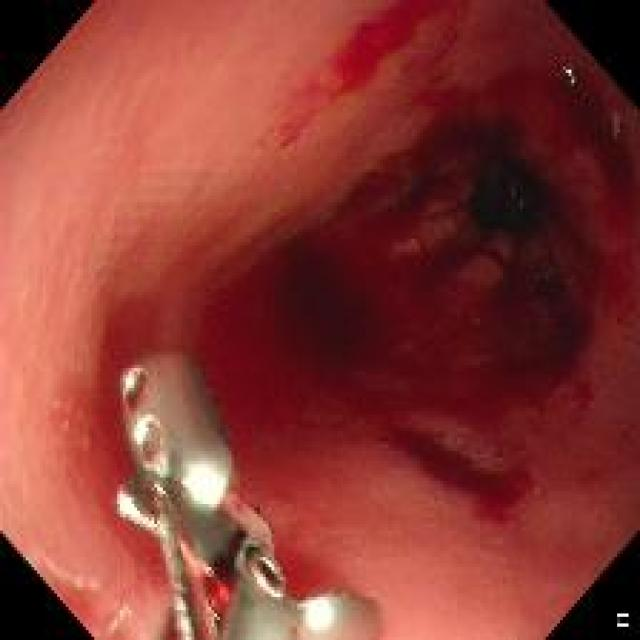blood: (491, 264, 591, 416), (276, 245, 372, 395), (395, 430, 523, 506)
color misalignment: (122, 368, 151, 414), (107, 607, 133, 637), (611, 114, 622, 139)
contrast: (427, 113, 590, 254)
instrument: (118, 350, 380, 640)
specularity: (183, 463, 228, 511), (250, 568, 287, 606), (299, 599, 336, 635), (558, 59, 586, 92), (119, 492, 145, 526), (130, 418, 152, 445), (123, 373, 130, 388)
